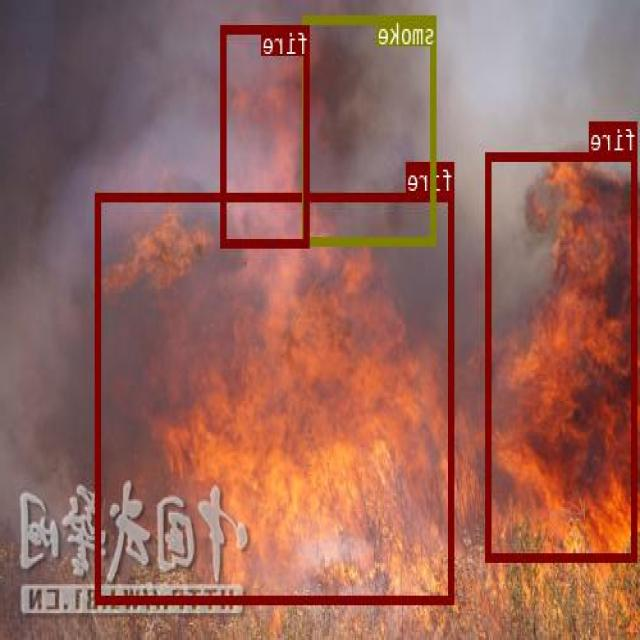fire: (96, 191, 455, 603), (488, 151, 638, 561), (222, 25, 311, 246)
smoke: (305, 15, 437, 243)
